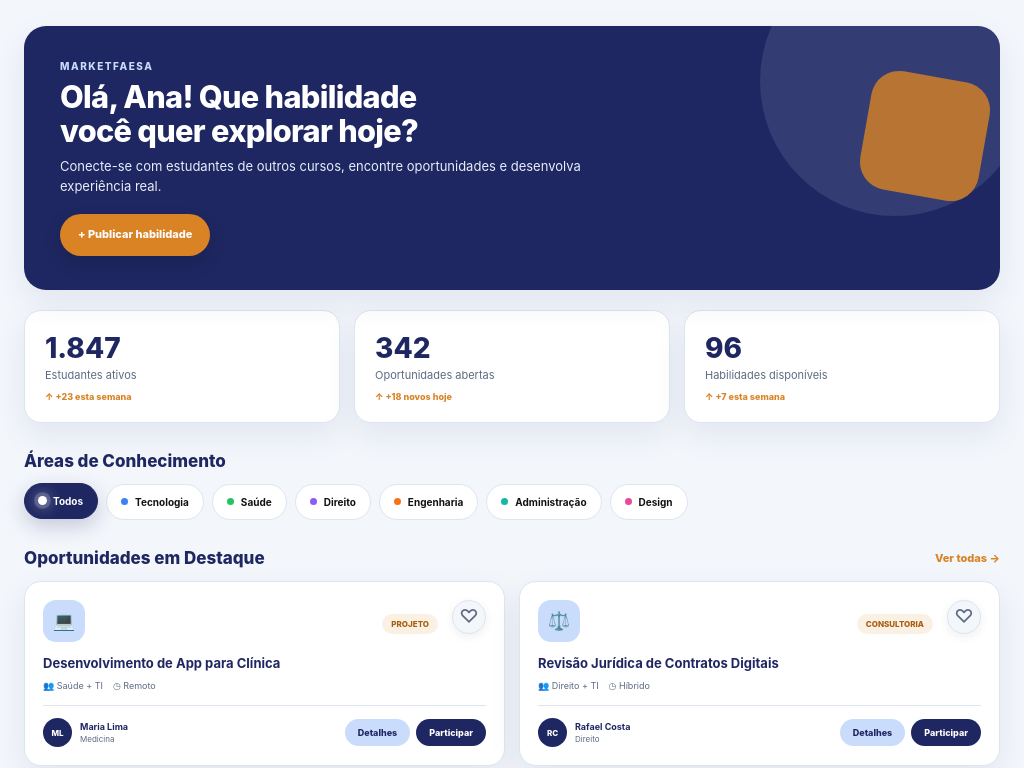
Scenario: Página inicial — persistência das oportunidades › não marca participação quando o armazenamento falha
The width and height of the screenshot is (1024, 768).
Click the button "Participar" in the row of "Maria Lima" at (451, 733), box [416,719,486,746]
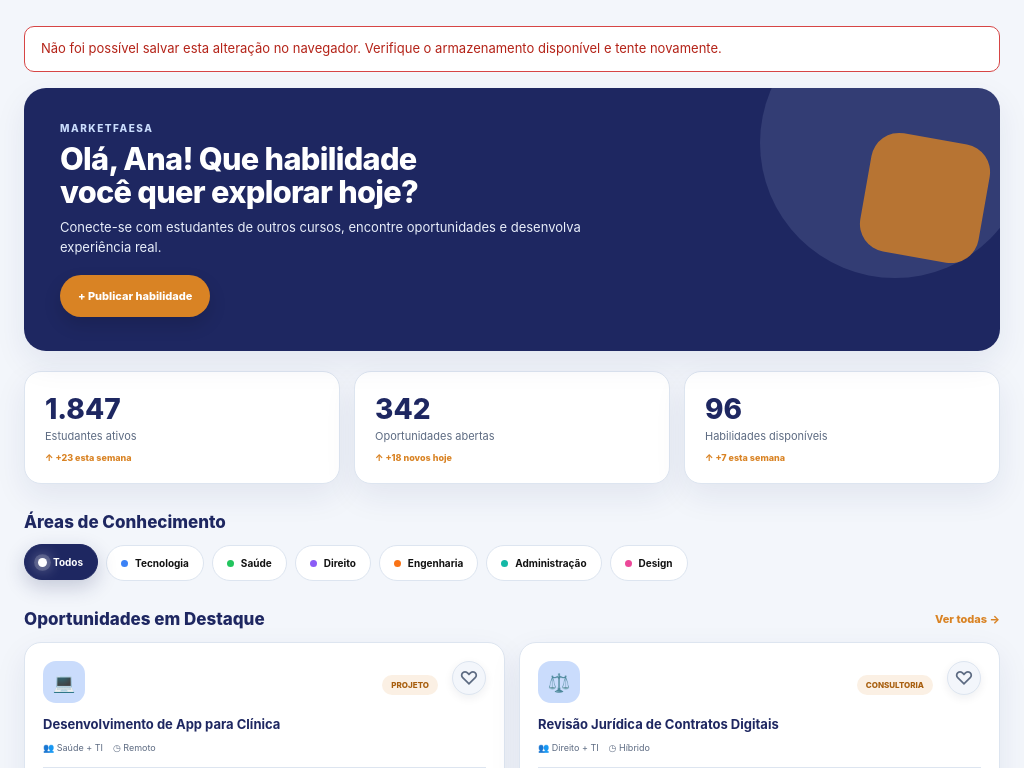
Expected: the message shows "Não foi possível salvar esta alteração", [41,40,722,56]
